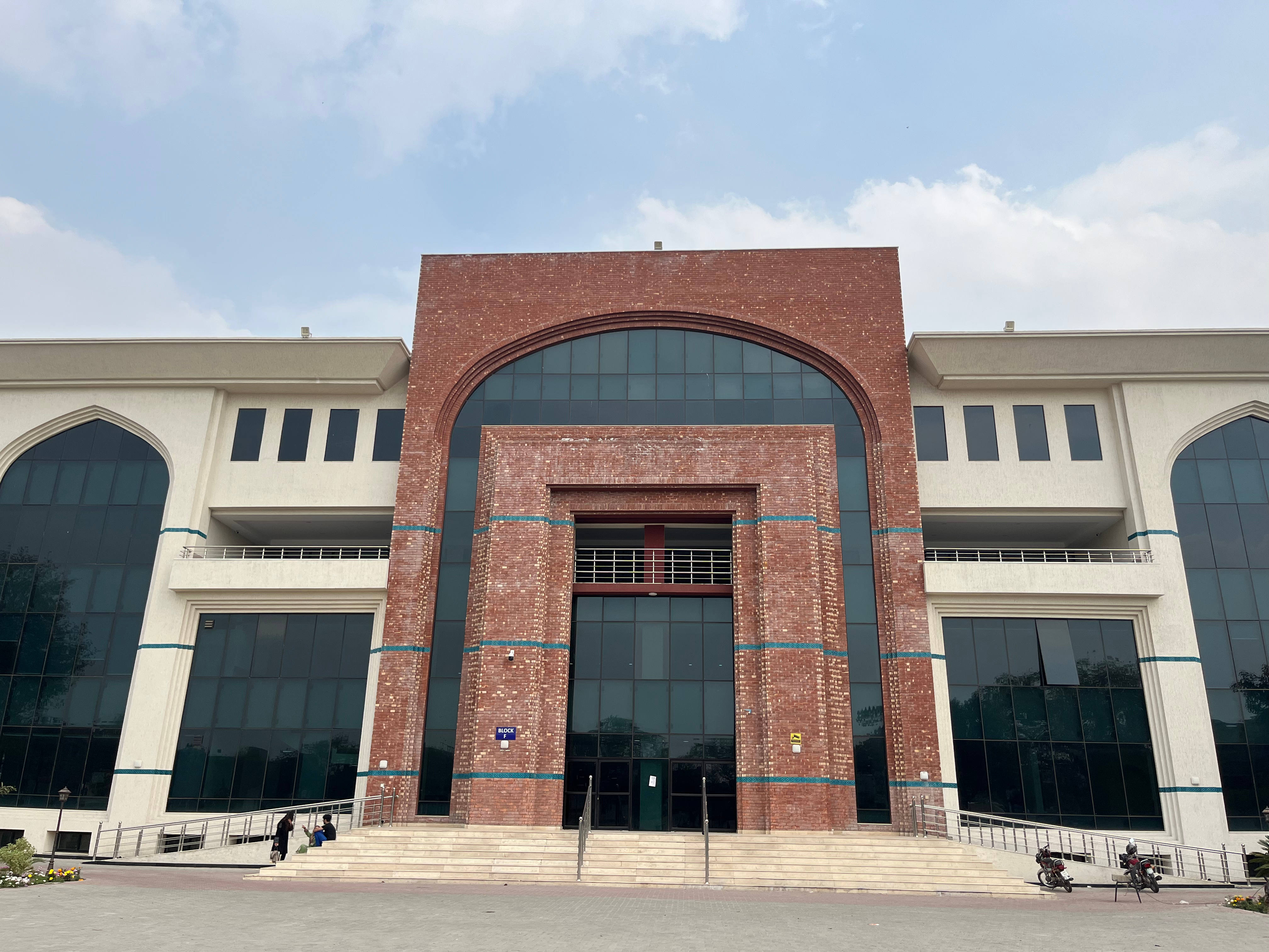Block F: (0, 236, 1269, 880)
